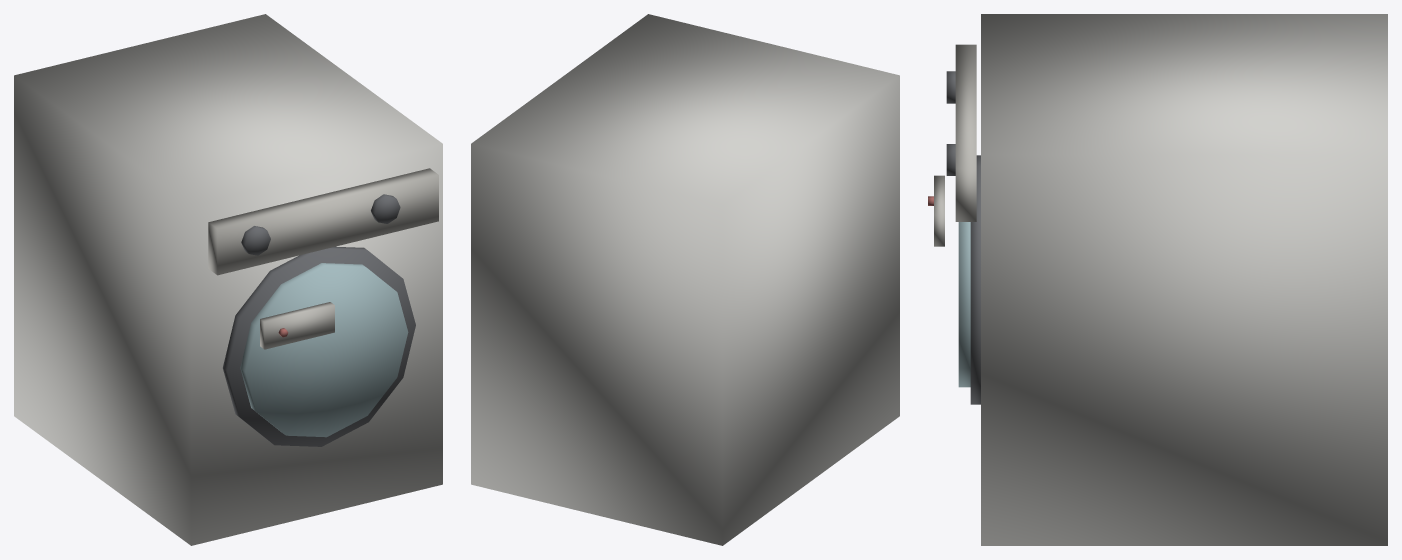
Rendered from domestic_dryer__deep.glb.
3 views of the same model, side by side, from view 1: azimuth 30°, elevation 25°; view 2: azimuth 150°, elevation 25°; view 3: azimuth 270°, elevation 25° (orthographic). The views are drawn at different scales.
Visible parts, largest first — view 1: world; view 2: world; view 3: world.
Boxes of the visible parts, bbox=[...] form: world: bbox=[14, 14, 442, 545]; world: bbox=[471, 14, 899, 545]; world: bbox=[928, 14, 1387, 545].
Bounding box in the file's own units: 0.68 × 0.88 × 0.9376.
